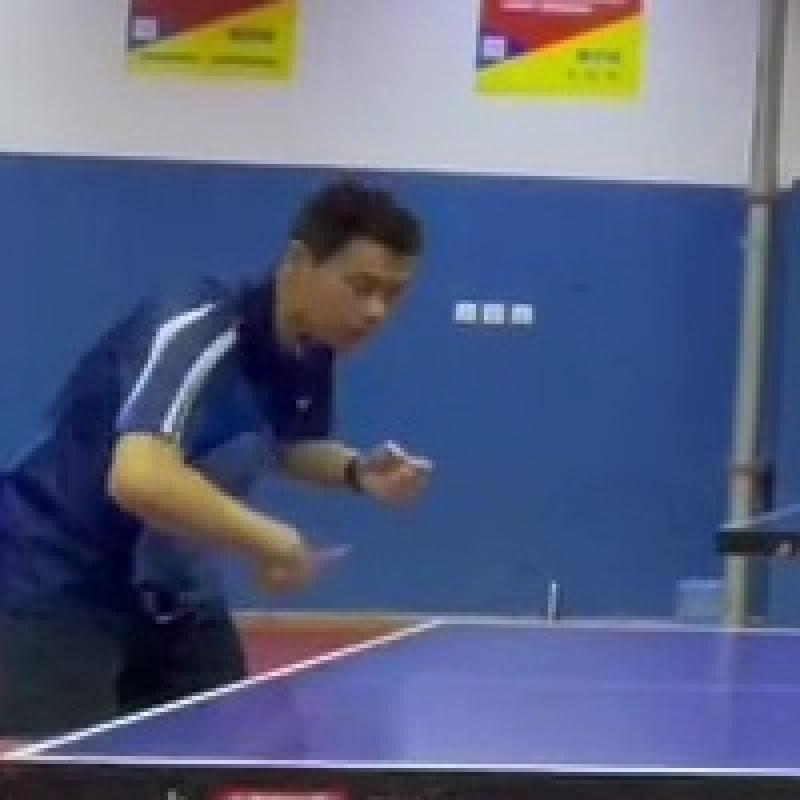bats: (292, 520, 363, 581)
